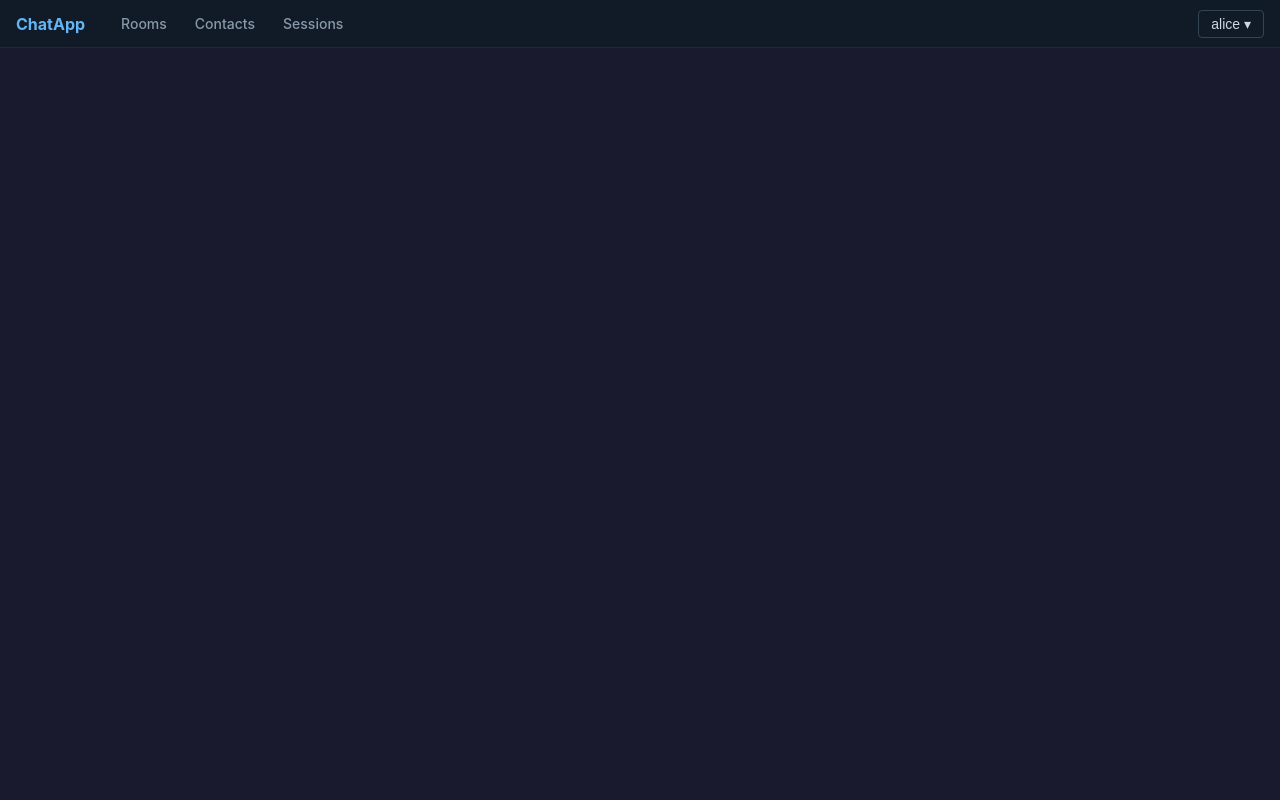
it: NavBar › opens DeleteAccountModal from dropdown
Click the button with aria-label "profile menu".
click(1231, 24)  # box [1198, 10, 1264, 38]
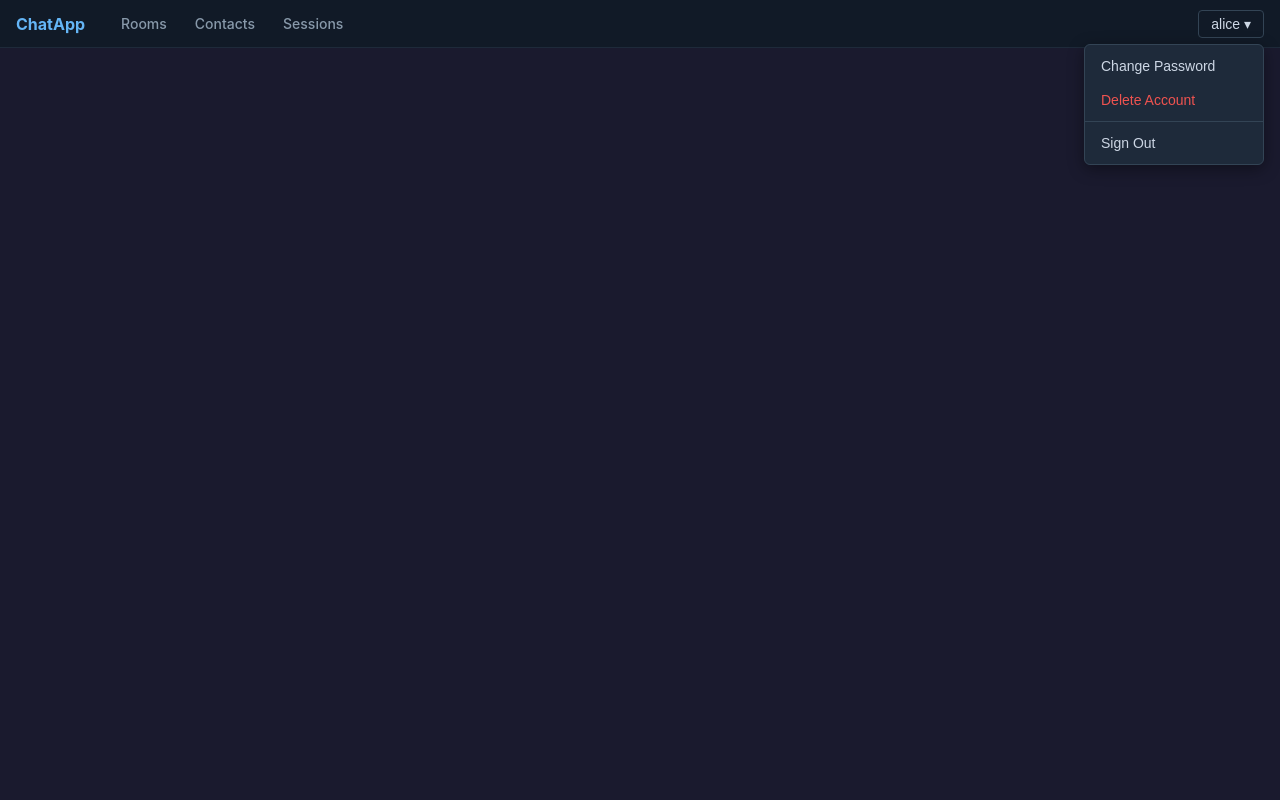
Click the menu item "Delete Account".
click(1174, 100)  # box [1085, 82, 1263, 116]
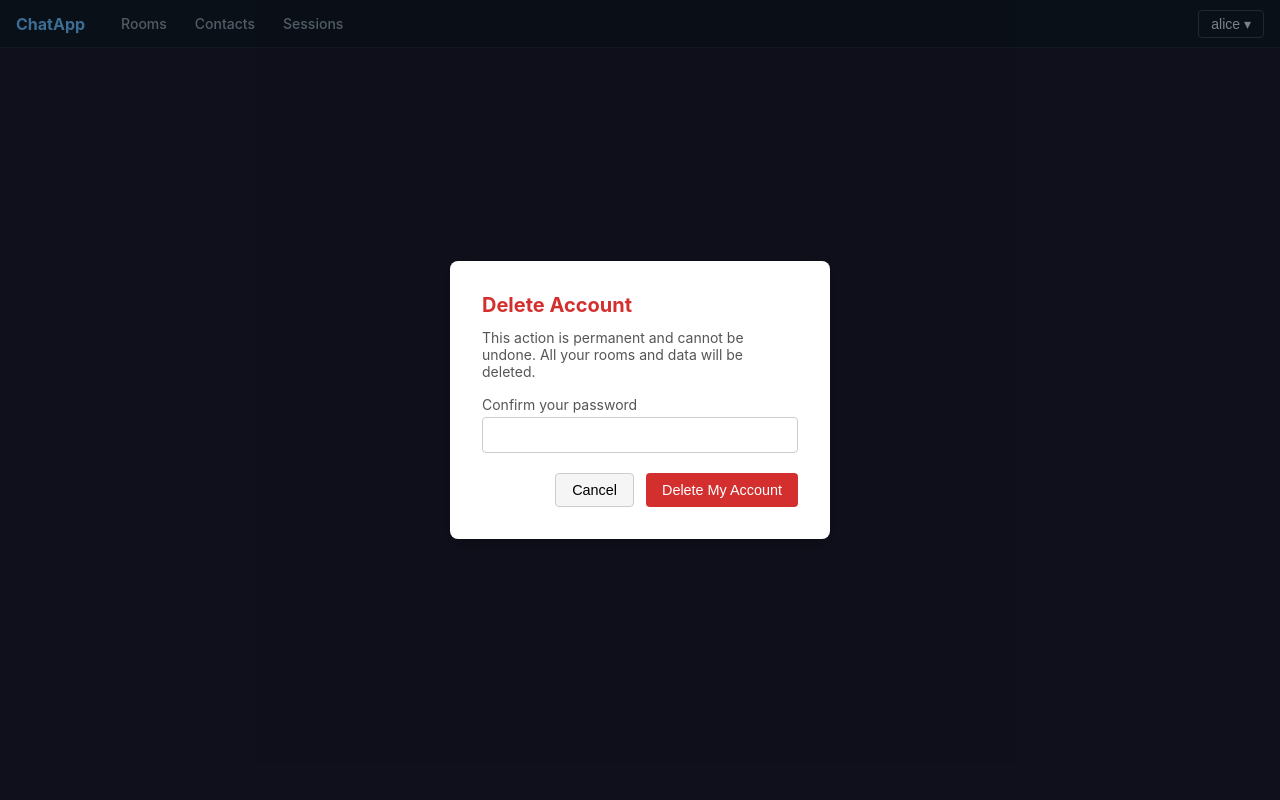
Expected: the dialog "Delete Account" is shown
Expected: the menu is gone
